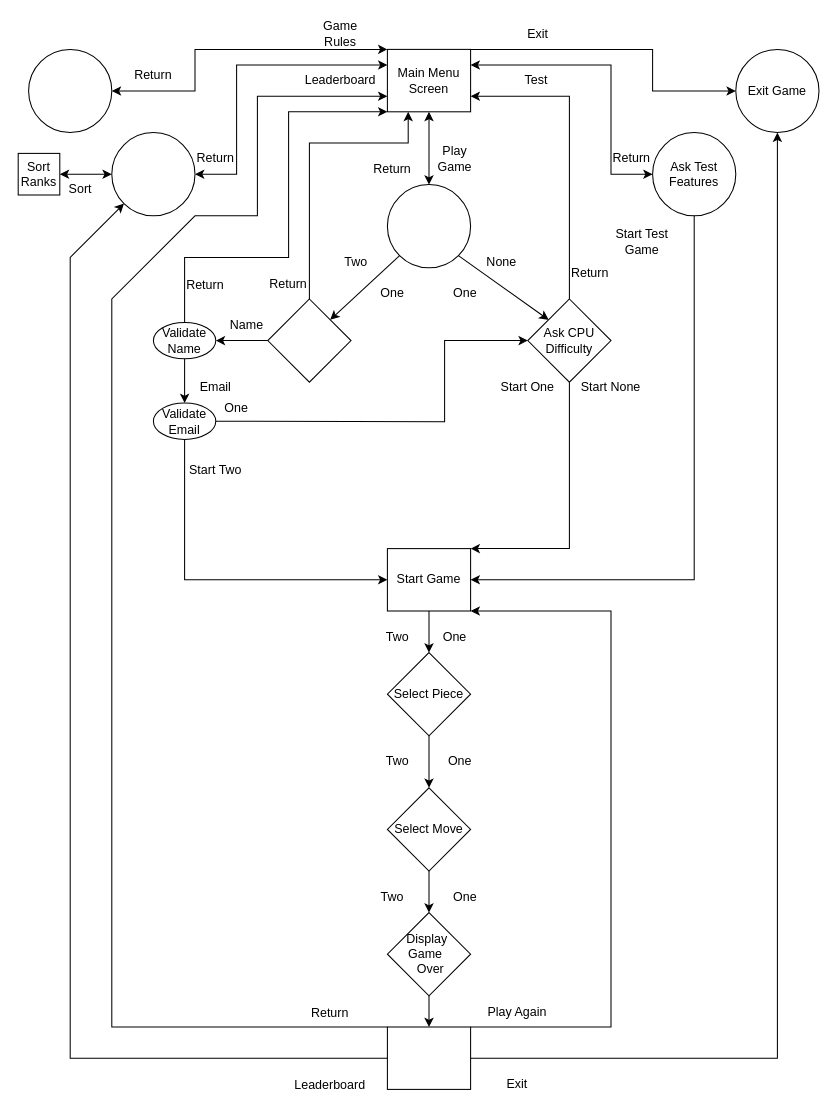
This 837x1118 diagram has some shape labels left out. Here are the shapes that lost their labels. From the top down, the centre of each, then its label:
At (70,90): "View Game Rules".
At (153,174): "View Leaderboard".
At (428,226): "Ask Number of Players".
At (309,340): "Ask Regisetered".
At (428,1057): "After Game Selection".
